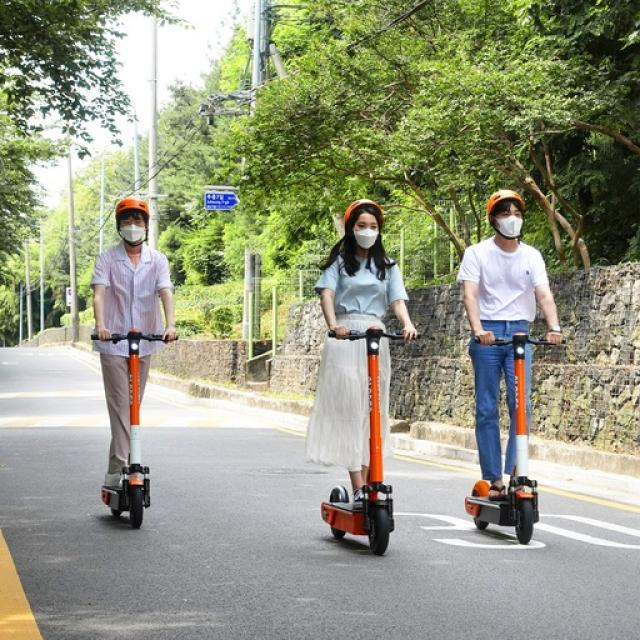helmet: (305, 196, 422, 563), (456, 186, 571, 551), (88, 194, 182, 532)
